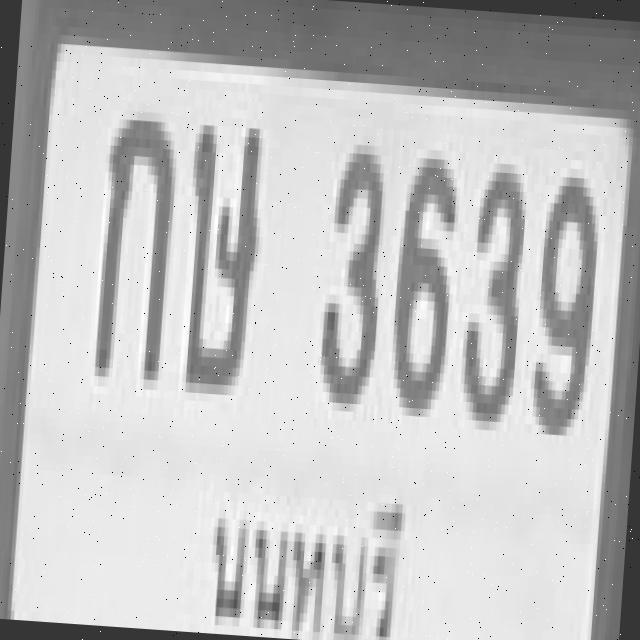10GorGai: (92, 100, 176, 372)
3: (455, 152, 525, 414), (316, 133, 386, 394)
48SorRueSi: (174, 111, 264, 391)
6: (384, 148, 454, 408)
9: (528, 166, 598, 428)
Nonthaburi: (184, 437, 421, 640)
